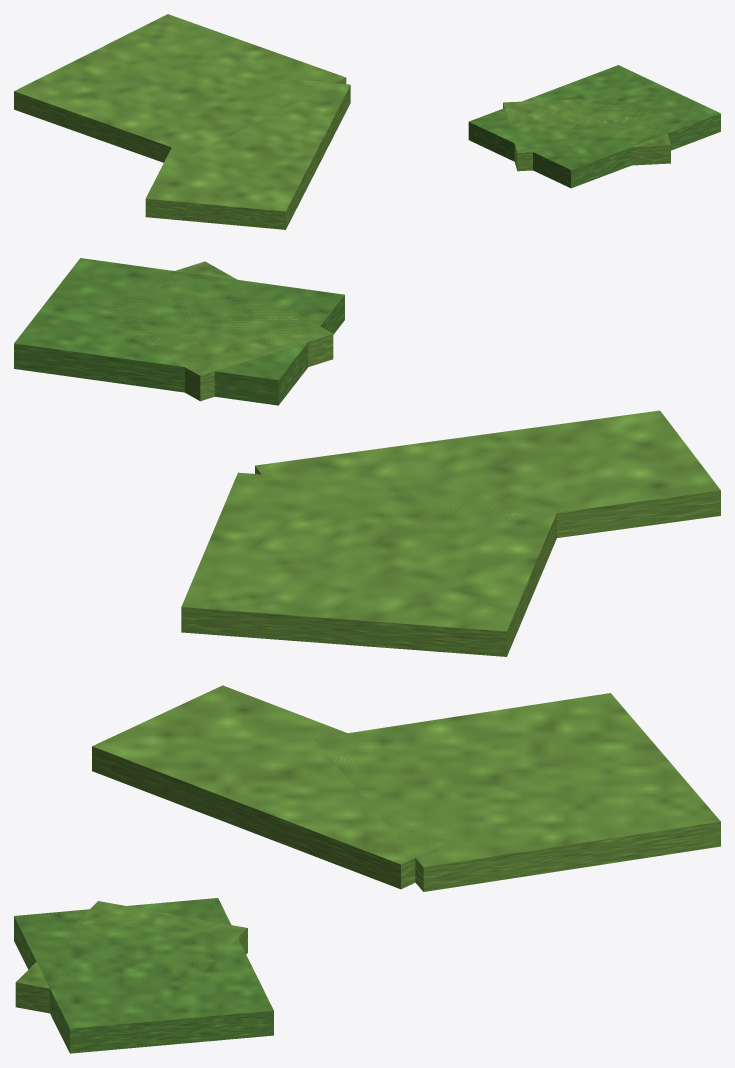
Rendered from Deco_Mousse_B.obj.
3 renders of one model, top to bottom at view 1: azimuth 30°, elevation 25°; view 2: azimuth 150°, elevation 25°; view 3: azimuth 270°, elevation 25°, orthographic. The views are drawn at different scales.
Visible parts, largest first — view 1: Deco_Mousse_B; view 2: Deco_Mousse_B; view 3: Deco_Mousse_B.
Boxes of the visible parts, box(x1,y1,x2,y2) form: Deco_Mousse_B: box(14, 14, 720, 229); Deco_Mousse_B: box(14, 258, 720, 656); Deco_Mousse_B: box(14, 685, 720, 1053).
Size of the model in its own units: 2.37 by 0.08 by 2.06.
1 material, 1 textured.
